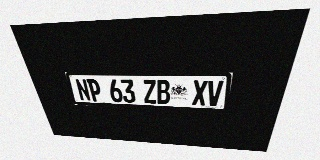3: (120, 79, 136, 103)
6: (108, 79, 123, 102)
B: (156, 80, 170, 104)
N: (74, 79, 91, 101)
P: (86, 79, 103, 102)
V: (206, 80, 224, 106)
X: (192, 80, 208, 105)
Z: (142, 80, 157, 104)
